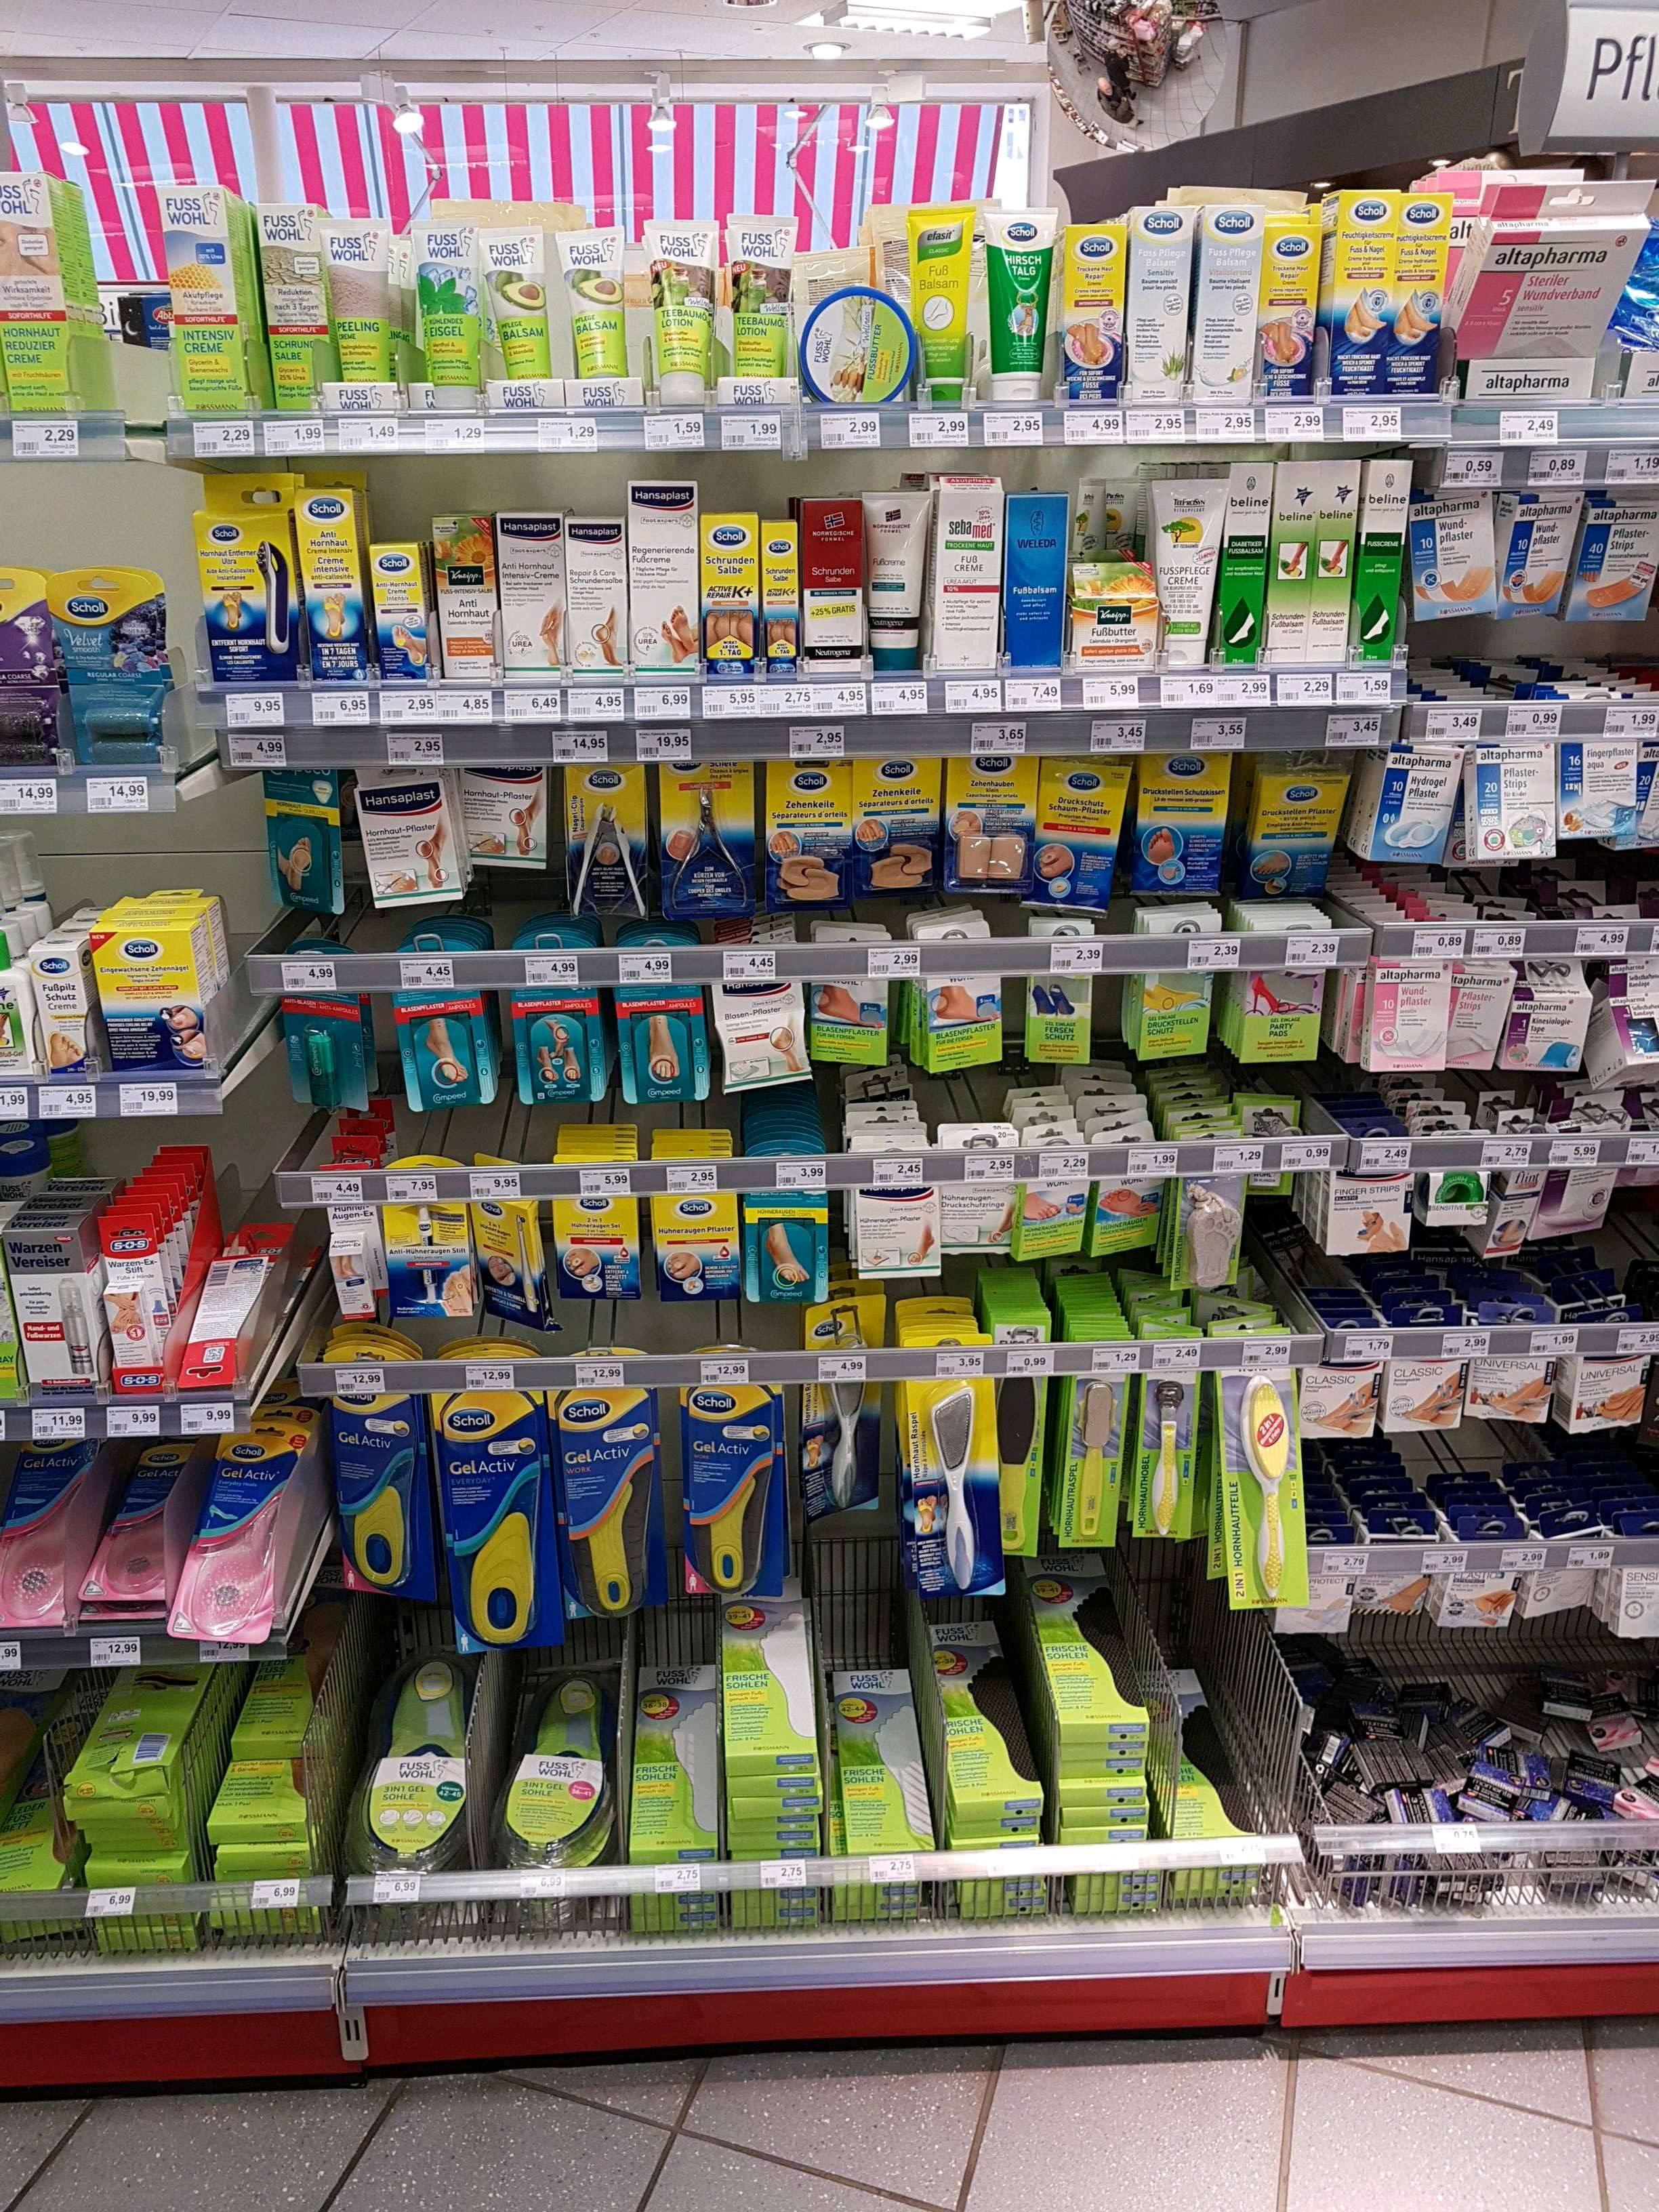misalignment: (1457, 181, 1642, 373), (798, 275, 924, 413), (802, 1308, 882, 1521), (643, 218, 713, 404), (185, 1251, 256, 1385)
